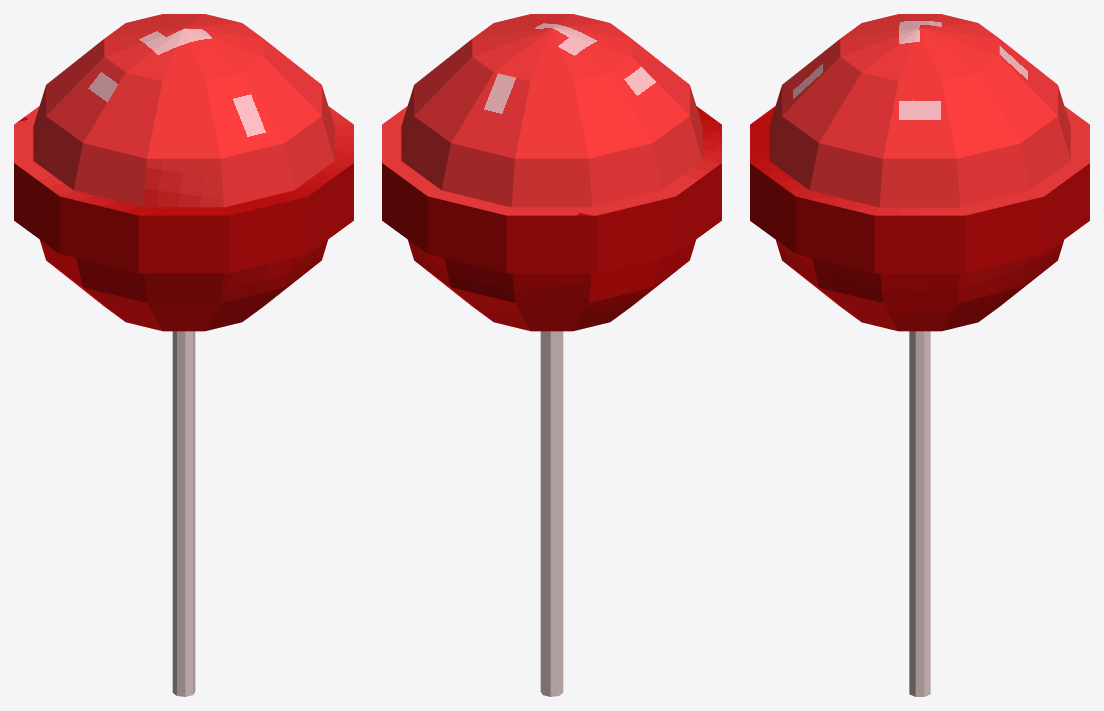
Rendered from Lolipop (Pink).gltf.
3 views of the same model, side by side, from view 1: azimuth 30°, elevation 25°; view 2: azimuth 150°, elevation 25°; view 3: azimuth 270°, elevation 25° (orthographic).
Visible parts, largest first — view 1: sphere, cylinder (×2); view 2: sphere, cylinder (×2); view 3: sphere, cylinder (×2).
Part boxes in pixels (bbox=[...]): sphere: bbox=[33, 14, 334, 331]; cylinder (×2): bbox=[14, 106, 353, 696]; sphere: bbox=[401, 14, 702, 331]; cylinder (×2): bbox=[382, 106, 721, 696]; sphere: bbox=[769, 14, 1070, 331]; cylinder (×2): bbox=[750, 106, 1089, 696].
Bounding box in the file's own units: 1 × 2.16 × 1.
3 materials, 3 textured.
